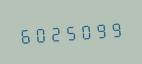five: (62, 20, 76, 43)
nine: (92, 18, 106, 41), (107, 17, 121, 40)
six: (17, 23, 31, 46)
two: (47, 21, 61, 44)
zero: (32, 22, 46, 45), (77, 19, 91, 42)
